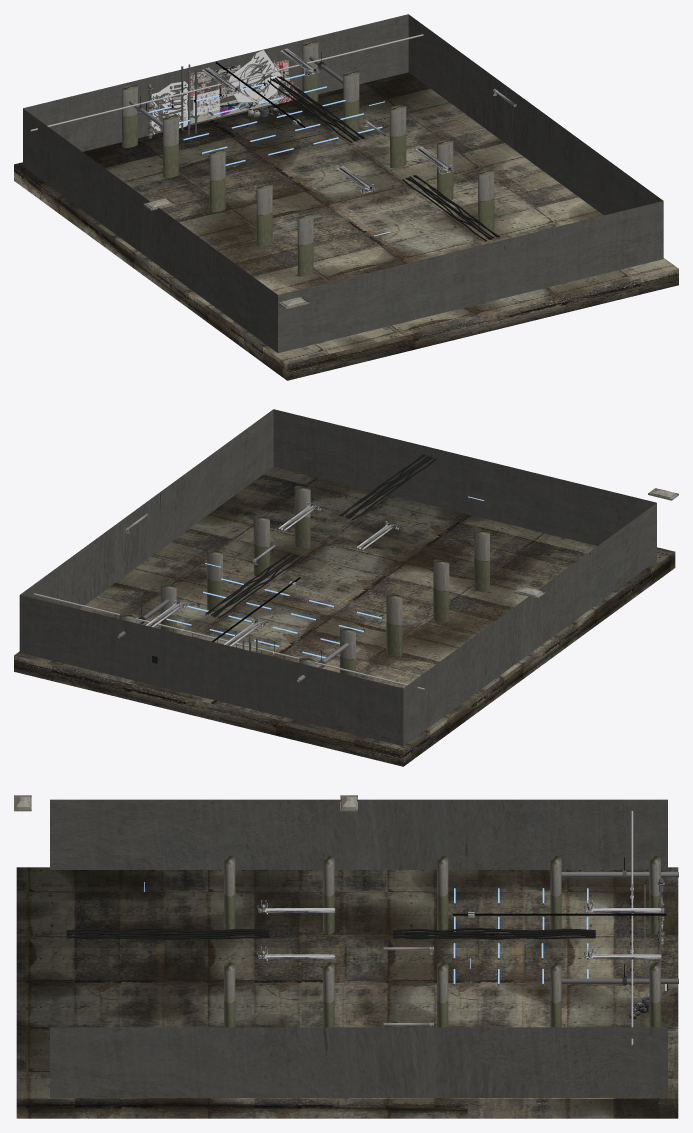
The model's file is underground_garage_baked.gltf.
The picture shows the model from 3 angles, top to bottom: view 1: azimuth 30°, elevation 25°; view 2: azimuth 150°, elevation 25°; view 3: azimuth 270°, elevation 25°; orthographic projection. The views are drawn at different scales.
Parts seen in each view (by area): view 1: Plane.016, Cube, scribbles.004, BezierCurve.001, Cylinder.019, Cylinder.018, Cylinder.021, BezierCurve.003, Cylinder.016, Cylinder.022, Cylinder.017, Cylinder.015 (+6 smaller); view 2: Cube, Plane.016, BezierCurve.001, Cylinder.019, BezierCurve.003, Cylinder.016, Cylinder.021, Cylinder.020, Cylinder.022, Cylinder.018, Cylinder.002, Cylinder.015 (+1 smaller); view 3: Plane.016, Cube, BezierCurve.003, BezierCurve.001, Cylinder.016, Cylinder.021, Cylinder.019, Cylinder.015, Cylinder.014, Cylinder.013, Cylinder.020, Cylinder.017 (+8 smaller).
Boxes of the visible parts, x1=… form: Plane.016: x1=14, y1=72, x2=678, y2=380; Cube: x1=23, y1=14, x2=663, y2=352; scribbles.004: x1=228, y1=50, x2=281, y2=102; BezierCurve.001: x1=267, y1=76, x2=364, y2=142; Cylinder.019: x1=256, y1=183, x2=272, y2=246; Cylinder.018: x1=390, y1=105, x2=406, y2=168; Cylinder.021: x1=297, y1=213, x2=313, y2=276; BezierCurve.003: x1=402, y1=175, x2=499, y2=241; Cylinder.016: x1=209, y1=149, x2=225, y2=212; Cylinder.022: x1=478, y1=169, x2=494, y2=232; Cylinder.017: x1=343, y1=71, x2=359, y2=133; Cylinder.015: x1=163, y1=115, x2=178, y2=177; Cube: x1=19, y1=409, x2=656, y2=745; Plane.016: x1=14, y1=467, x2=675, y2=766; BezierCurve.001: x1=205, y1=552, x2=302, y2=618; Cylinder.019: x1=433, y1=559, x2=449, y2=622; BezierCurve.003: x1=339, y1=454, x2=436, y2=520; Cylinder.016: x1=386, y1=594, x2=402, y2=656; Cylinder.021: x1=474, y1=530, x2=489, y2=592; Cylinder.020: x1=253, y1=516, x2=269, y2=578; Cylinder.022: x1=294, y1=486, x2=310, y2=548; Cylinder.018: x1=207, y1=550, x2=222, y2=612; Cylinder.002: x1=34, y1=593, x2=424, y2=689; Cylinder.015: x1=340, y1=628, x2=355, y2=676; Plane.016: x1=16, y1=867, x2=678, y2=1118; Cube: x1=50, y1=799, x2=667, y2=1097; BezierCurve.003: x1=66, y1=928, x2=269, y2=939; BezierCurve.001: x1=393, y1=928, x2=595, y2=939; Cylinder.016: x1=437, y1=855, x2=448, y2=930; Cylinder.021: x1=224, y1=855, x2=235, y2=929; Cylinder.019: x1=323, y1=855, x2=334, y2=934; Cylinder.015: x1=550, y1=855, x2=561, y2=929; Cylinder.014: x1=649, y1=855, x2=660, y2=934; Cylinder.013: x1=649, y1=962, x2=660, y2=1027; Cylinder.020: x1=323, y1=962, x2=334, y2=1027; Cylinder.017: x1=550, y1=962, x2=561, y2=1027.
Bounding box in the file's own units: 48.77 × 9.33 × 57.83.
